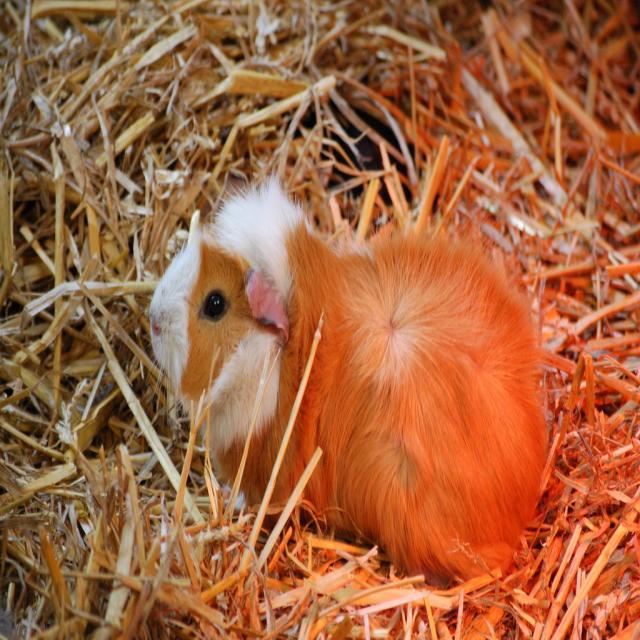rat: (140, 172, 560, 576)
